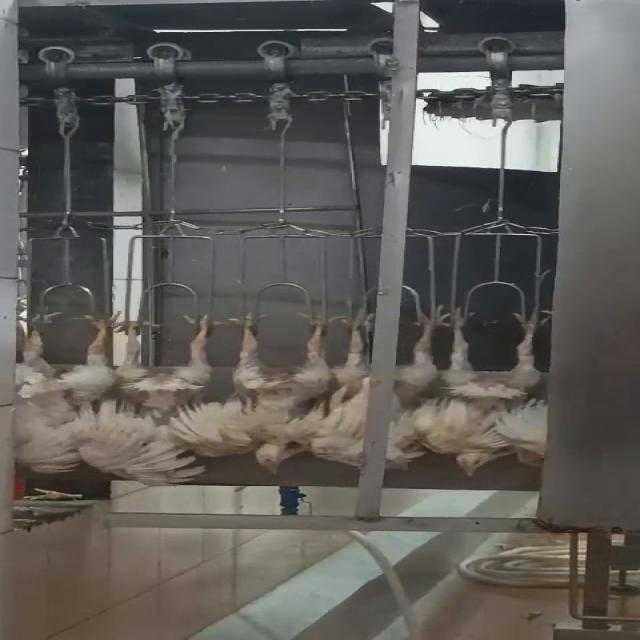chicken: (313, 304, 448, 476), (0, 310, 133, 479), (214, 304, 342, 474), (436, 303, 559, 477), (110, 310, 219, 489)
